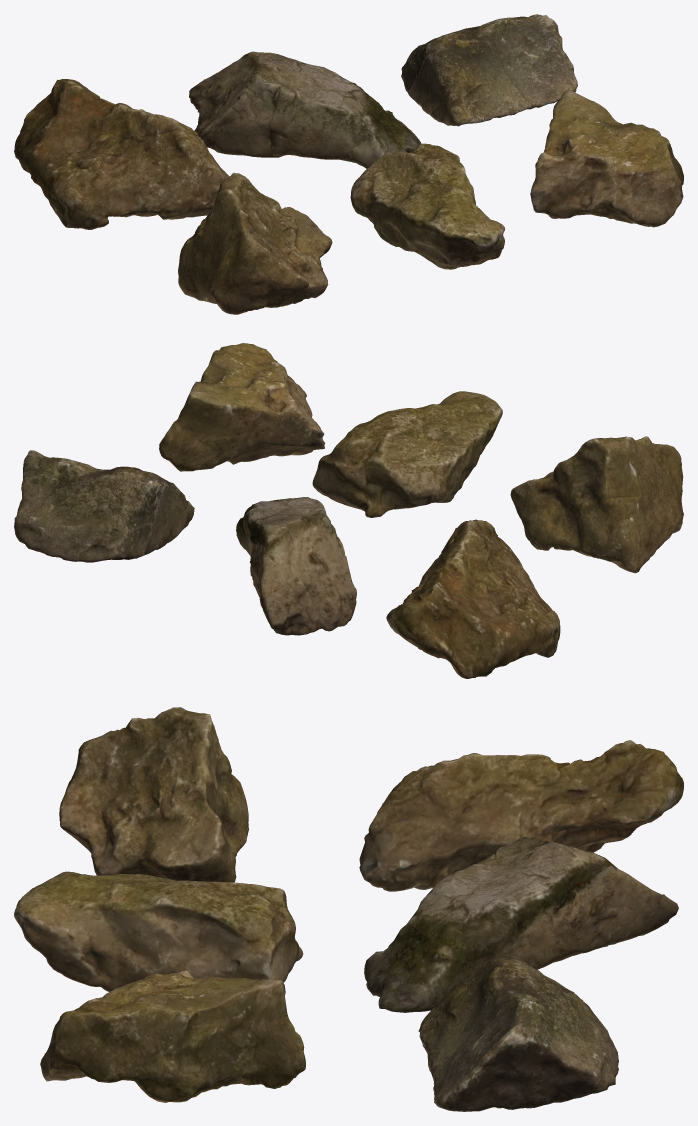
The model's file is rock_moss_set_01.glb.
The picture shows the model from 3 angles, top to bottom: view 1: azimuth 30°, elevation 25°; view 2: azimuth 150°, elevation 25°; view 3: azimuth 270°, elevation 25°; orthographic projection. The views are drawn at different scales.
Visible parts, largest first — view 1: rock_moss_set_01_rock01, rock_moss_set_01_rock02, rock_moss_set_01_rock06, rock_moss_set_01_rock04, rock_moss_set_01_rock03, rock_moss_set_01_rock05; view 2: rock_moss_set_01_rock04, rock_moss_set_01_rock01, rock_moss_set_01_rock05, rock_moss_set_01_rock03, rock_moss_set_01_rock06, rock_moss_set_01_rock02; view 3: rock_moss_set_01_rock01, rock_moss_set_01_rock02, rock_moss_set_01_rock05, rock_moss_set_01_rock06, rock_moss_set_01_rock04, rock_moss_set_01_rock03.
Boxes of the visible parts, <box> form: rock_moss_set_01_rock01: <box>14,79,229,229</box>; rock_moss_set_01_rock02: <box>189,51,421,168</box>; rock_moss_set_01_rock06: <box>530,89,683,227</box>; rock_moss_set_01_rock04: <box>178,173,332,314</box>; rock_moss_set_01_rock03: <box>401,14,577,126</box>; rock_moss_set_01_rock05: <box>350,143,504,269</box>; rock_moss_set_01_rock04: <box>510,436,683,573</box>; rock_moss_set_01_rock01: <box>386,519,560,678</box>; rock_moss_set_01_rock05: <box>312,391,502,517</box>; rock_moss_set_01_rock03: <box>14,450,194,562</box>; rock_moss_set_01_rock06: <box>159,343,325,471</box>; rock_moss_set_01_rock02: <box>236,497,356,635</box>; rock_moss_set_01_rock01: <box>359,740,683,891</box>; rock_moss_set_01_rock02: <box>364,836,678,1012</box>; rock_moss_set_01_rock05: <box>14,871,303,991</box>; rock_moss_set_01_rock06: <box>40,970,305,1102</box>; rock_moss_set_01_rock04: <box>59,707,248,882</box>; rock_moss_set_01_rock03: <box>418,956,618,1111</box>.
Bounding box in the file's own units: 8 × 1.77 × 6.94.
1 material, 1 textured.
